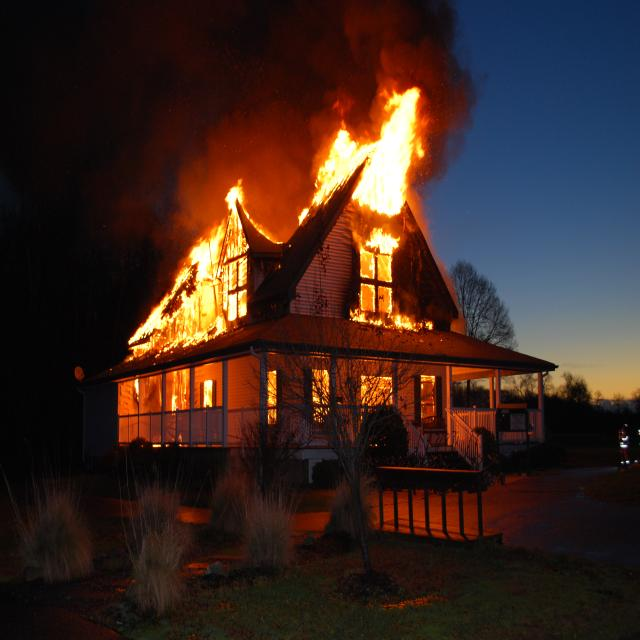Fire: (136, 189, 251, 391), (314, 78, 428, 217), (353, 216, 422, 348), (127, 368, 220, 413), (356, 368, 401, 420), (311, 357, 338, 425), (261, 369, 282, 432)
Smoke: (20, 4, 326, 203), (334, 0, 478, 119)
